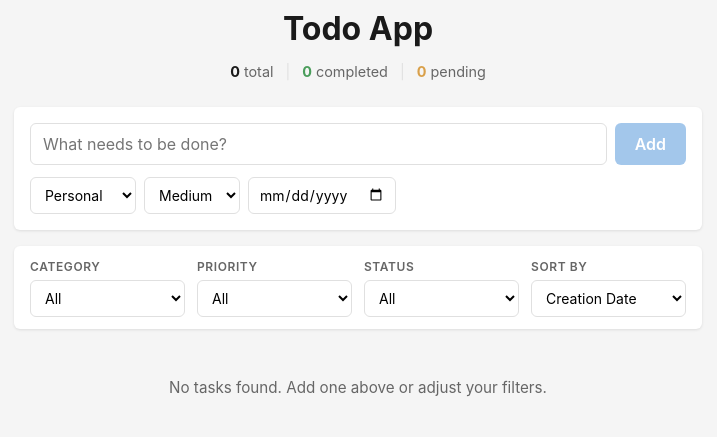
Scenario: App › can complete and delete a task
Type "Task to complete" into the field with placeholder "What needs to be done?".
click(318, 144); type("Task to complete")  # box [30,123,607,165]
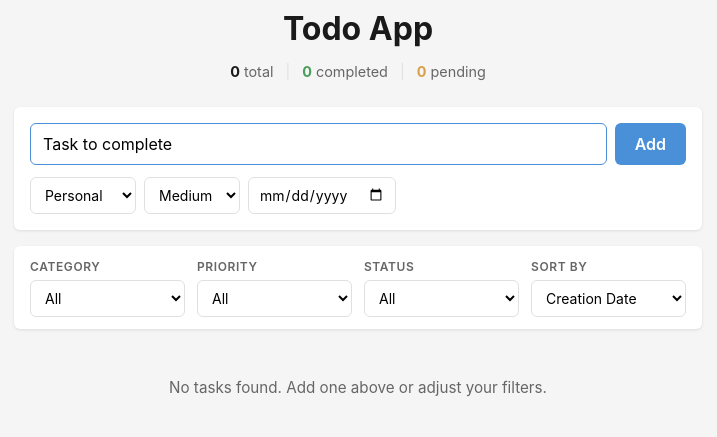
Click the button "Add".
click(650, 144)  # box [615,123,686,165]
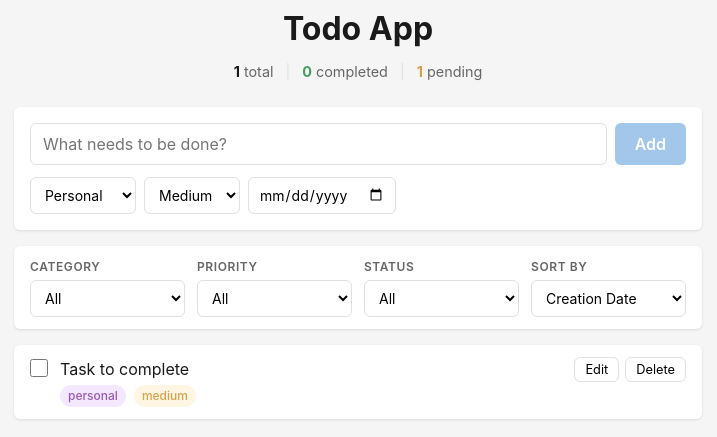
Click the checkbox.
click(39, 368)  # box [30,359,48,377]
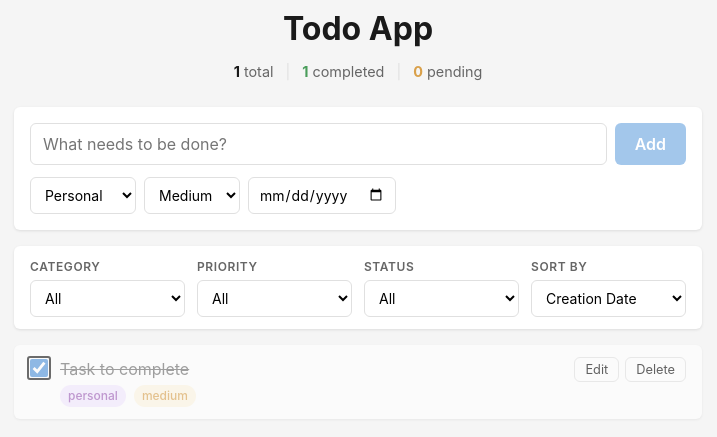
Now the checkbox is checked, box [30,359,48,377]
Click the button with aria-label "Delete task".
click(656, 369)  # box [625,357,686,382]
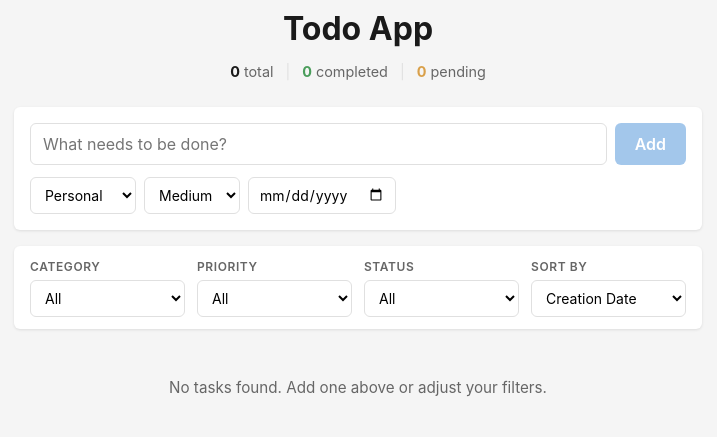
Now the text "Task to complete" is gone
